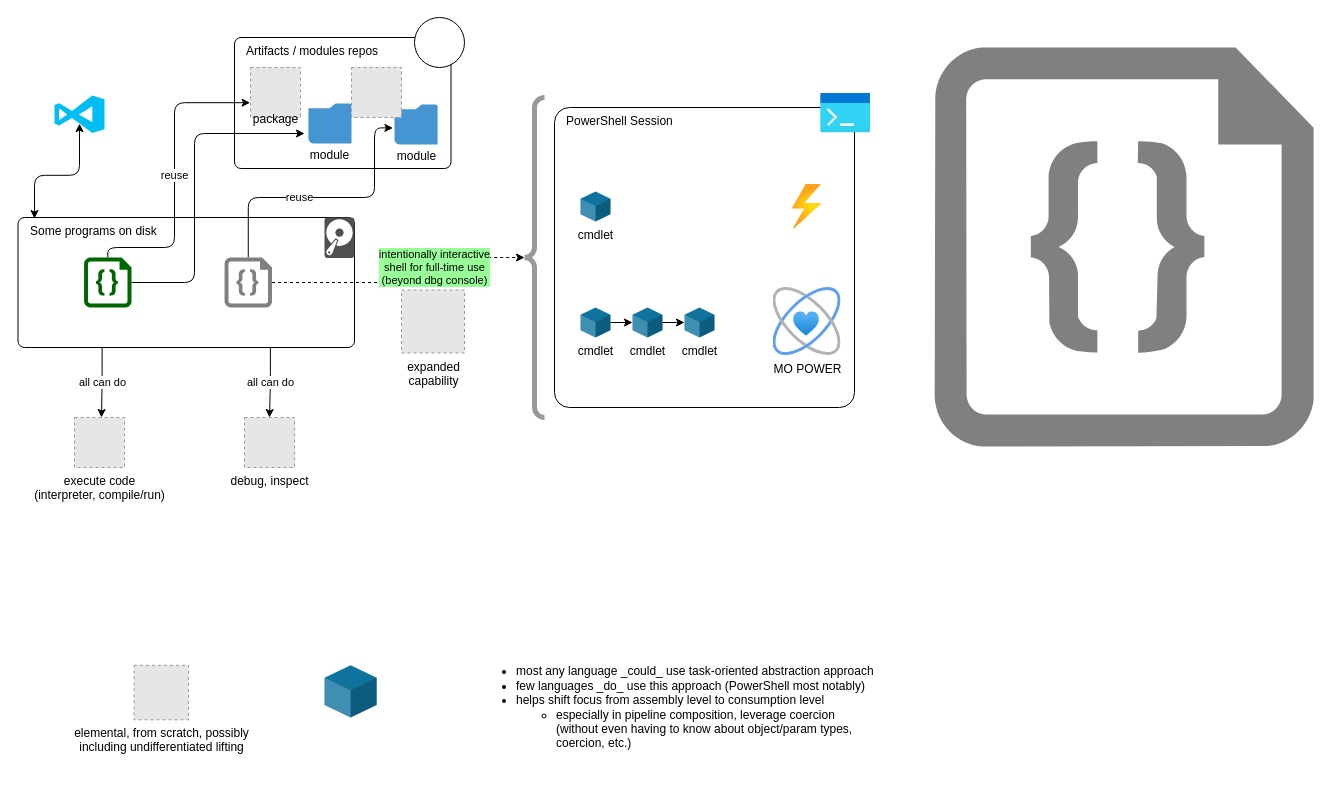
The diagram is 1331 pixels wide and 785 high, and some of its shapes have lost their labels. Grey dashed boxes stand in for pictures. The centre of each missing label's shape, as x and y in pixels:
"cmdlet - high level task oriented abstraction as basis for composable pipeline" goes at point (350, 691).
"do_something.py" goes at point (107, 282).
"edit and author" goes at point (79, 113).
"Invoke-AllTheThings.ps1" goes at point (1123, 246).
"New-CoolThing.ps1" goes at point (248, 282).
"power" goes at point (806, 206).
"repo" goes at point (439, 42).
